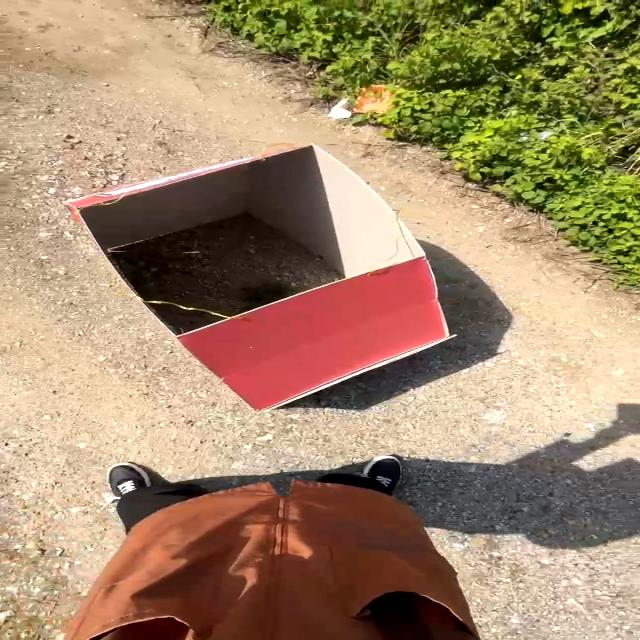red_car: (5, 128, 503, 430)
